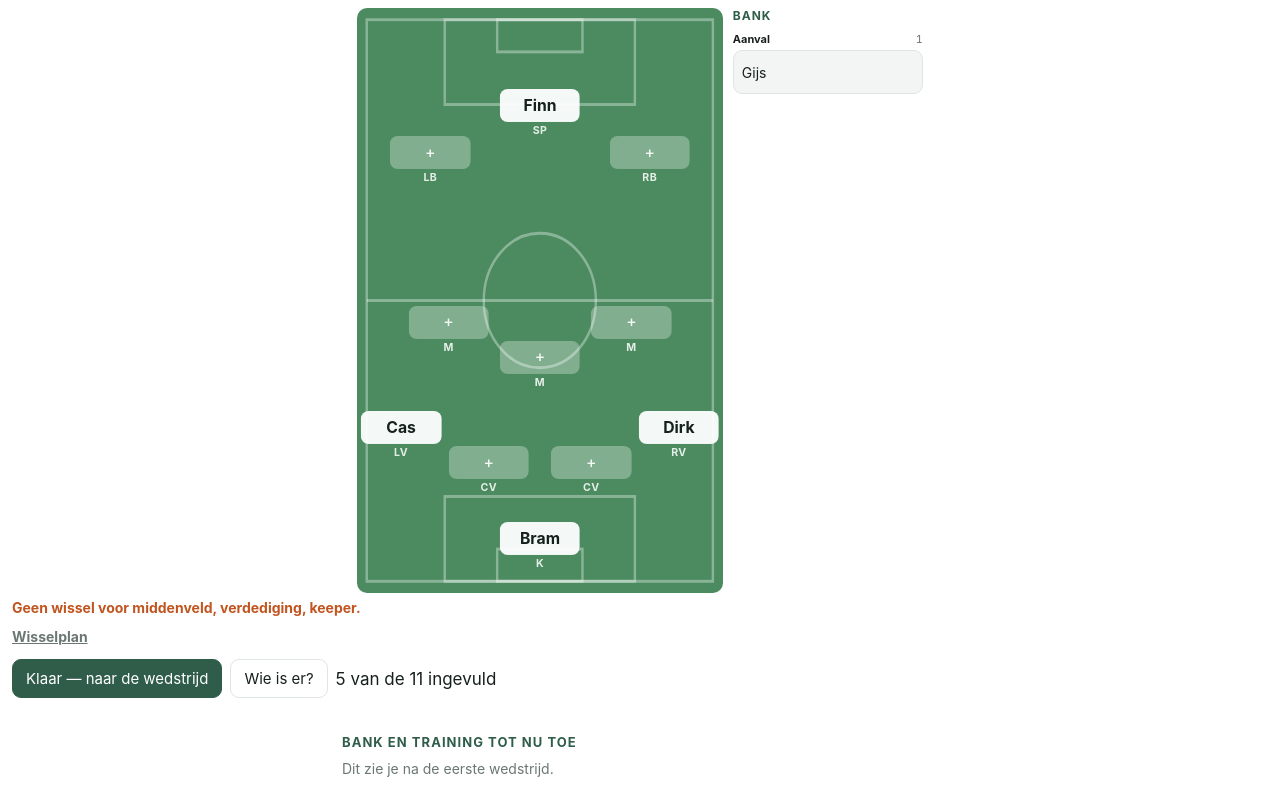
Test: het opstelscherm › vertelt wie je gekozen hebt
Click the button "Cas LV" at (401,435), box x1=361 y1=411 x2=441 y2=459
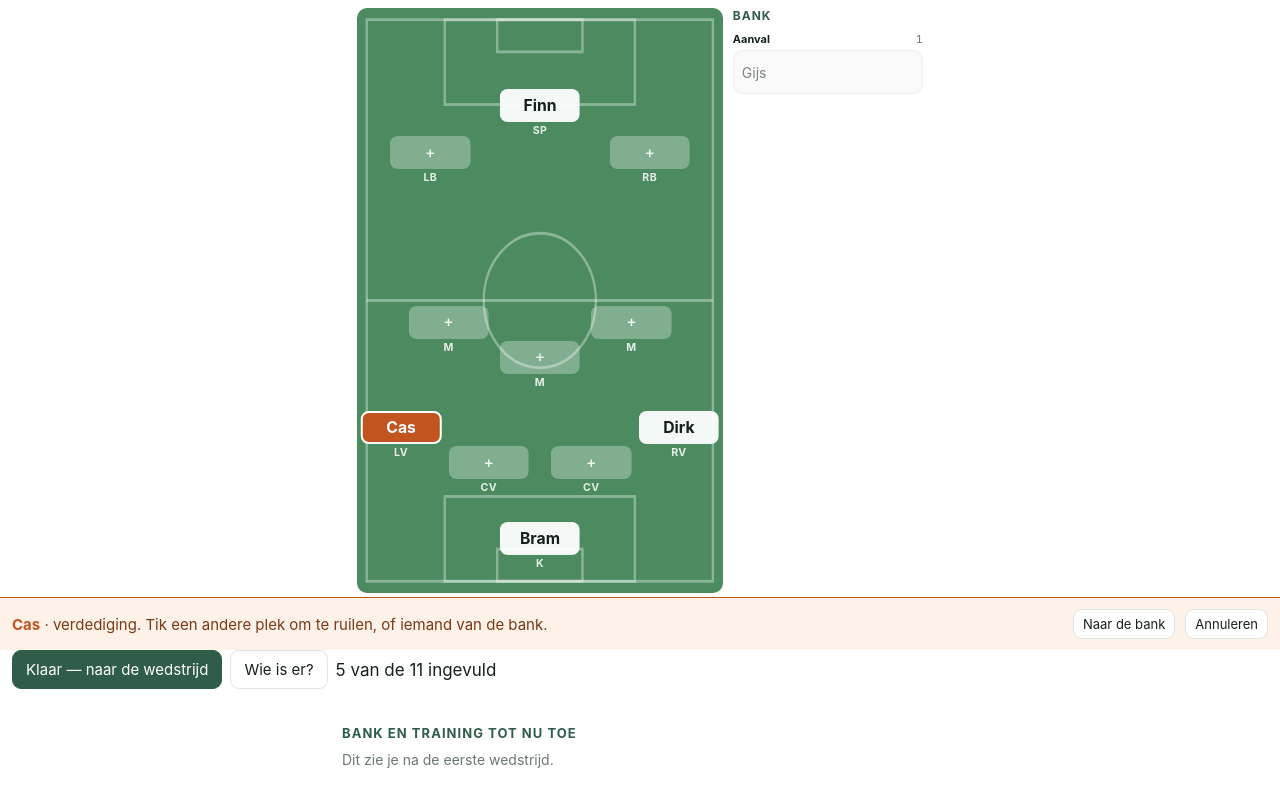
Expected: the button "Naar de bank" is shown, x1=1073 y1=609 x2=1175 y2=639
Expected: the element with class "melding" shows "Cas", x1=12 y1=614 x2=40 y2=634
